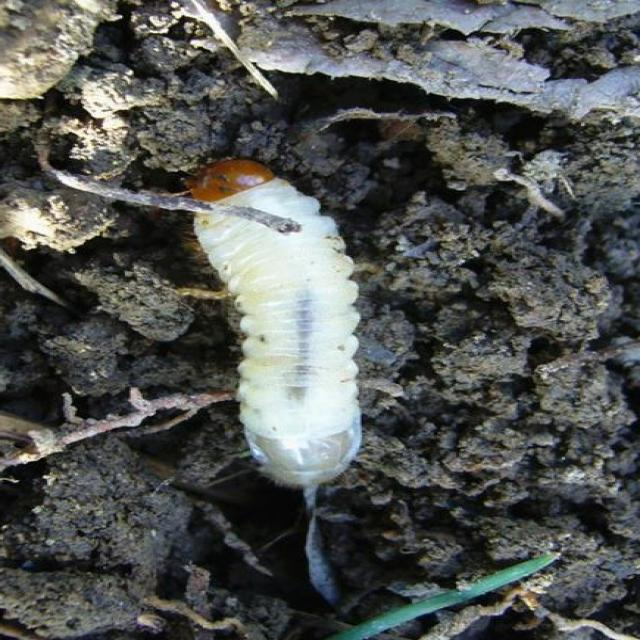grub: (228, 159, 368, 502)
